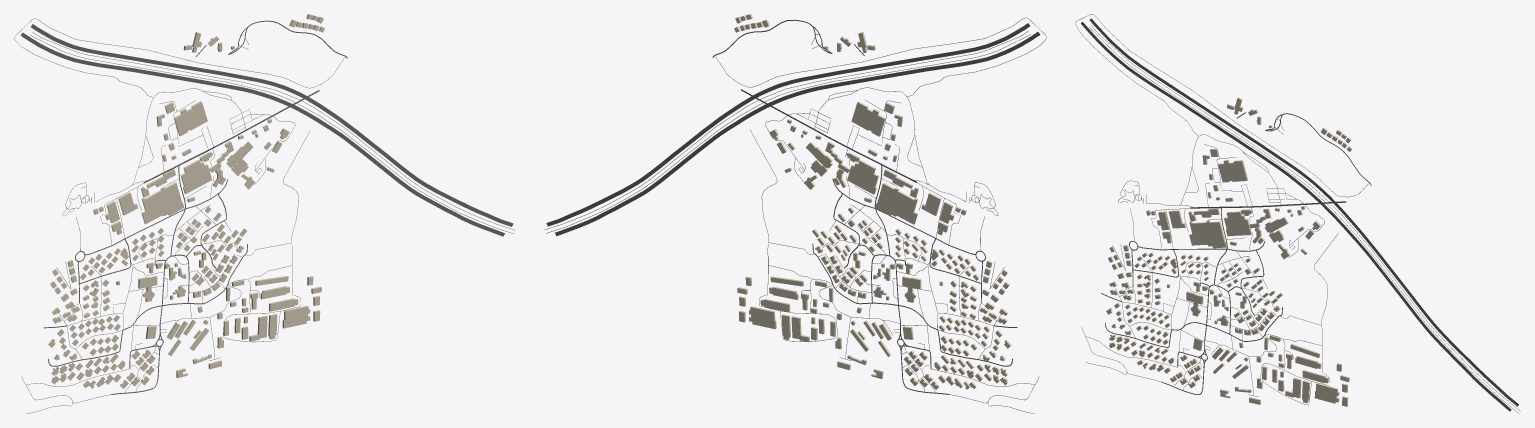
Rendered from historic-palestine-06_25_3482_3192.glb.
The picture shows the model from 3 angles, left to right: view 1: azimuth 30°, elevation 25°; view 2: azimuth 150°, elevation 25°; view 3: azimuth 330°, elevation 25°; orthographic projection. The views are drawn at different scales.
Parts seen in each view (by area): view 1: Road 431, Road 431.001, Building_.015, Building_.018, Building_, Road מסילת 431, Road מסילת 431.001, Road .036, Building_.085; view 2: Road 431, Road 431.001, Building_.015, Building_.018, Building_, Road מסילת 431, Road מסילת 431.001, Road .036, Building_.085; view 3: Road 431, Road 431.001, Building_.015, Building_, Building_.018, Road מסילת 431.001, Road מסילת 431, Road .036.
Boxes of the visible parts, box(x1,y1,x2,y2) form: Road 431: box(20, 32, 504, 236); Road 431.001: box(31, 24, 513, 226); Building_.015: box(141, 182, 184, 224); Building_.018: box(180, 159, 212, 194); Building_: box(174, 101, 207, 136); Road מסילת 431: box(32, 32, 515, 230); Road מסילת 431.001: box(30, 35, 513, 233); Road .036: box(14, 18, 344, 97); Building_.085: box(282, 305, 310, 328); Road 431: box(555, 32, 1040, 236); Road 431.001: box(546, 23, 1029, 226); Building_.015: box(875, 183, 917, 224); Building_.018: box(847, 160, 878, 194); Building_: box(851, 101, 885, 136); Road מסילת 431: box(544, 31, 1028, 229); Road מסילת 431.001: box(546, 34, 1030, 233); Road .036: box(714, 17, 1046, 96); Building_.085: box(749, 306, 776, 329); Road 431: box(1081, 21, 1511, 411); Road 431.001: box(1089, 18, 1518, 406); Building_.015: box(1189, 220, 1226, 248); Building_: box(1218, 160, 1248, 182); Building_.018: box(1224, 211, 1251, 236); Road מסילת 431.001: box(1089, 27, 1518, 413); Road מסילת 431: box(1091, 25, 1520, 411); Road .036: box(1075, 14, 1369, 197).
Size of the model in its own units: 1750 by 1334 by 10.5.
